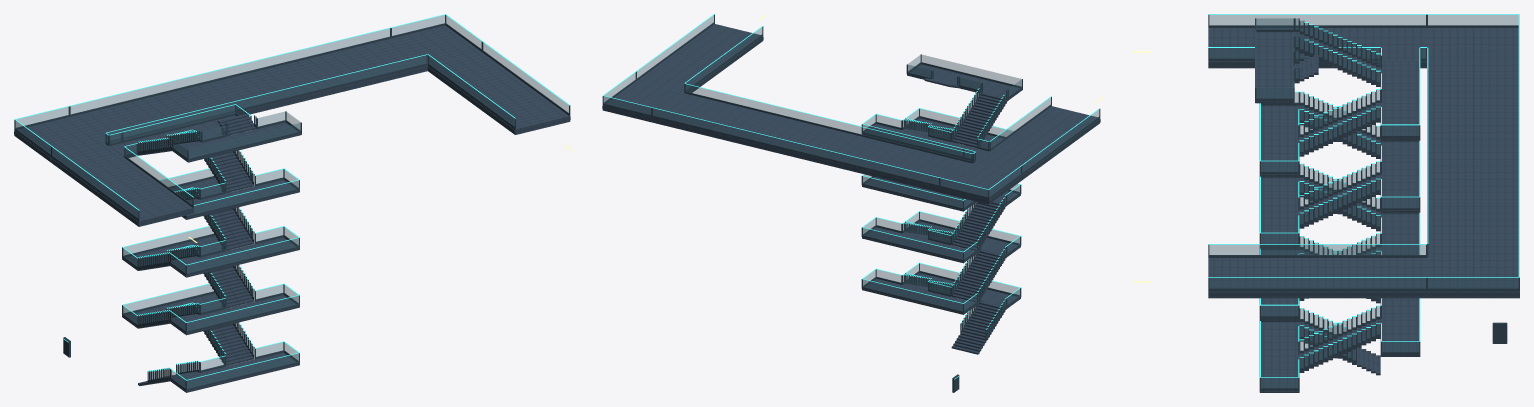
The model's file is v02-detailed-00-03-coffered.glb.
The picture shows the model from 3 angles, left to right: view 1: azimuth 30°, elevation 25°; view 2: azimuth 150°, elevation 25°; view 3: azimuth 270°, elevation 25°; orthographic projection. The views are drawn at different scales.
Parts seen in each view (by area): view 1: v02-detailed-00-03-coffered; view 2: v02-detailed-00-03-coffered; view 3: v02-detailed-00-03-coffered.
Part boxes in pixels (x1,y1,x2,y2): v02-detailed-00-03-coffered: (14, 14, 573, 392); v02-detailed-00-03-coffered: (602, 14, 1103, 392); v02-detailed-00-03-coffered: (1132, 14, 1519, 392).
Bounding box in the file's own units: 47.1 × 28.39 × 29.25.
5 materials, 1 textured.
